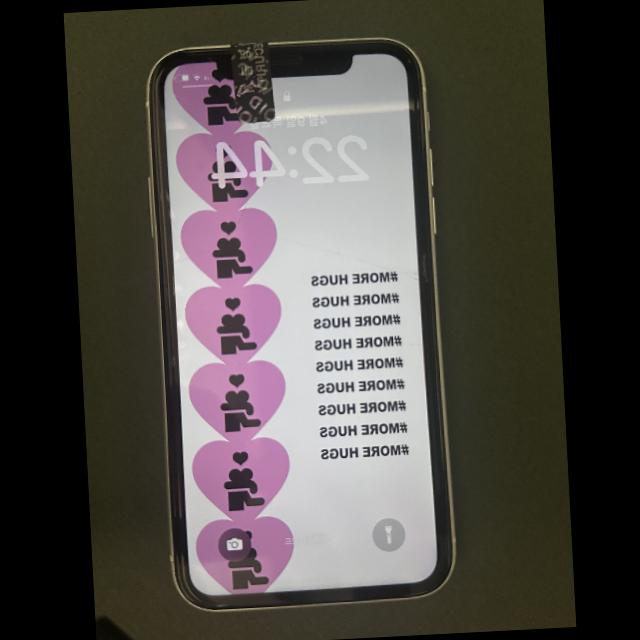phone: (146, 40, 453, 609)
sticker: (229, 41, 275, 125)
